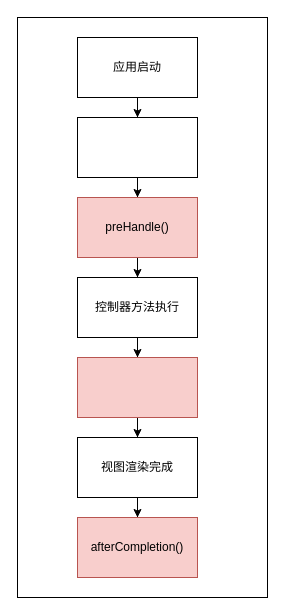
Some shapes in this 285 by 615 pixel diagram are drawn without their labels. The centre of each missing label's shape, as x and y in pixels:
postHandle(): pixel 137 387
实例化，初始化: pixel 137 147
